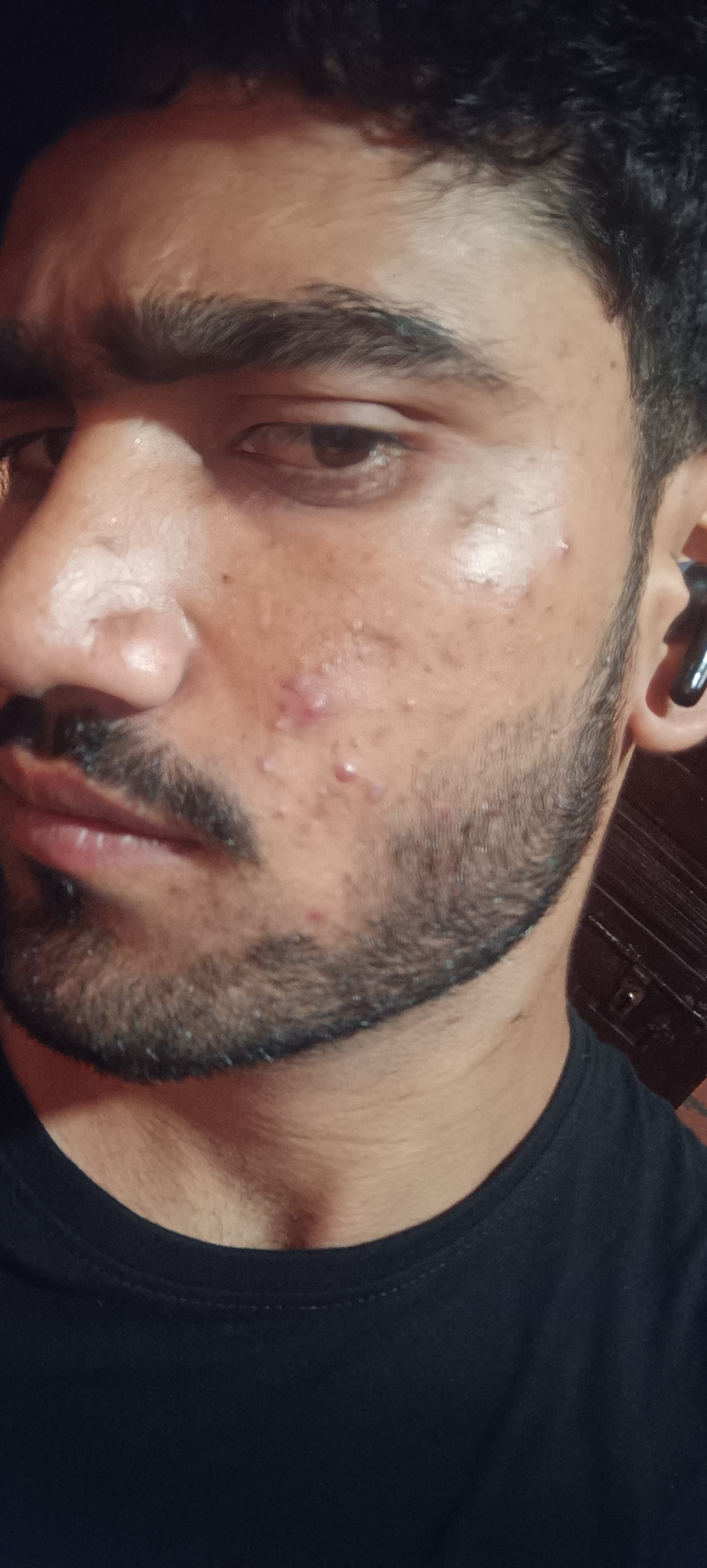closed_comedone: (250, 746, 287, 779), (392, 692, 430, 721), (254, 803, 302, 823)
papule: (301, 678, 356, 729), (295, 891, 349, 936), (548, 535, 586, 584), (331, 750, 370, 788)
